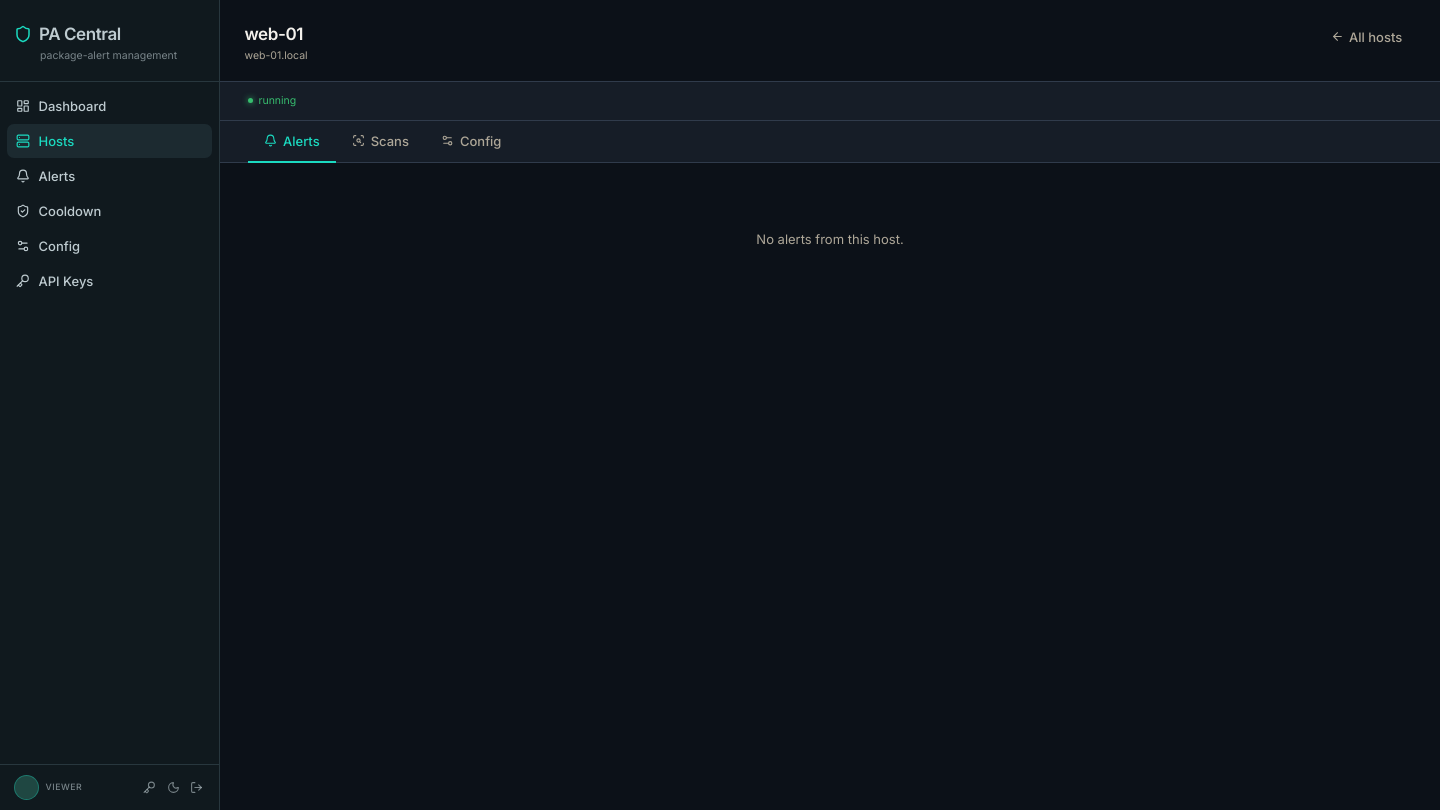
HostDetail scan row — risks › a scan with risks but no findings is expandable and shows the risks table
Step 1. Click the tab "Scans" → (380,142), box [336,121,425,163]
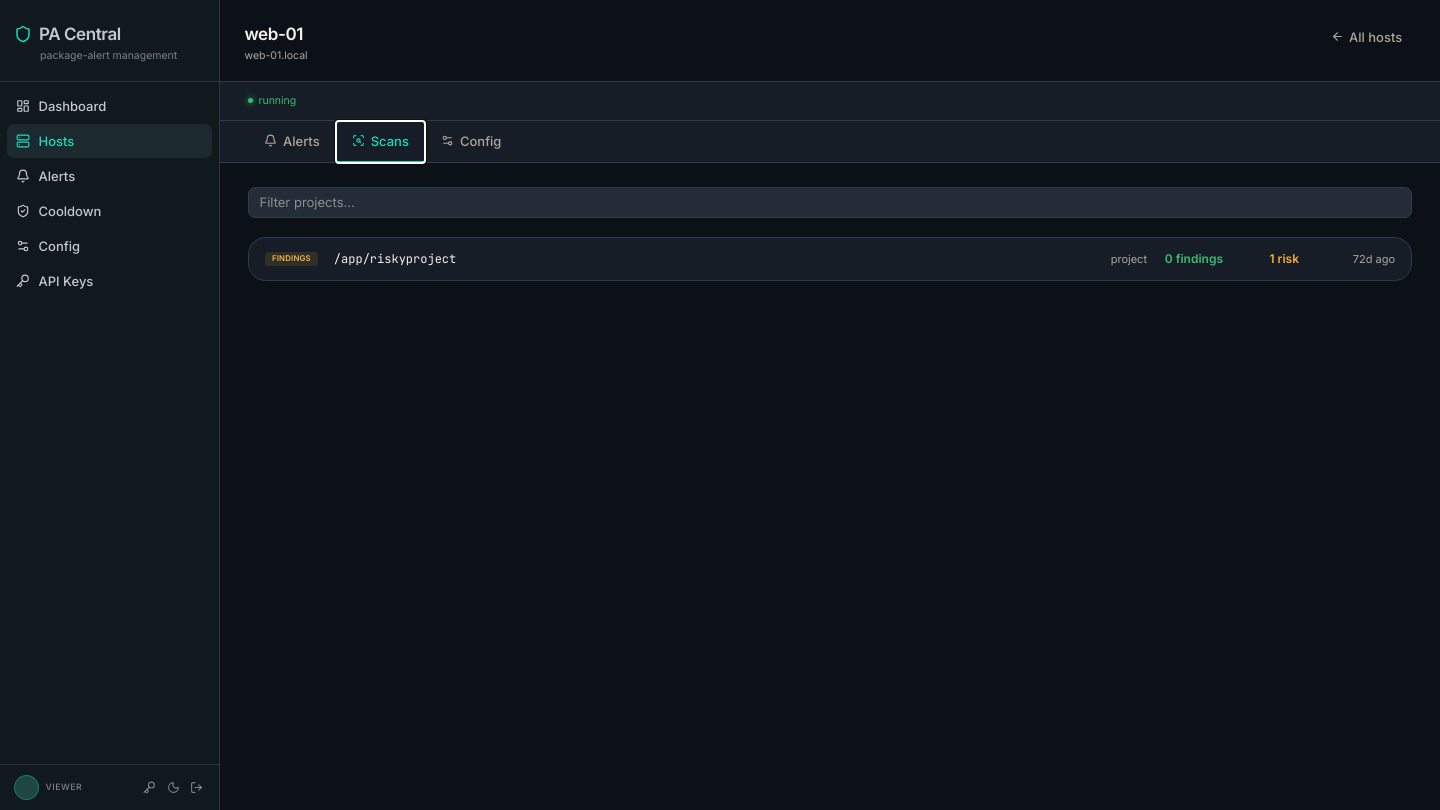
Step 2. Click the button "/app/riskyproject" → (291,259), box [265,251,1395,267]
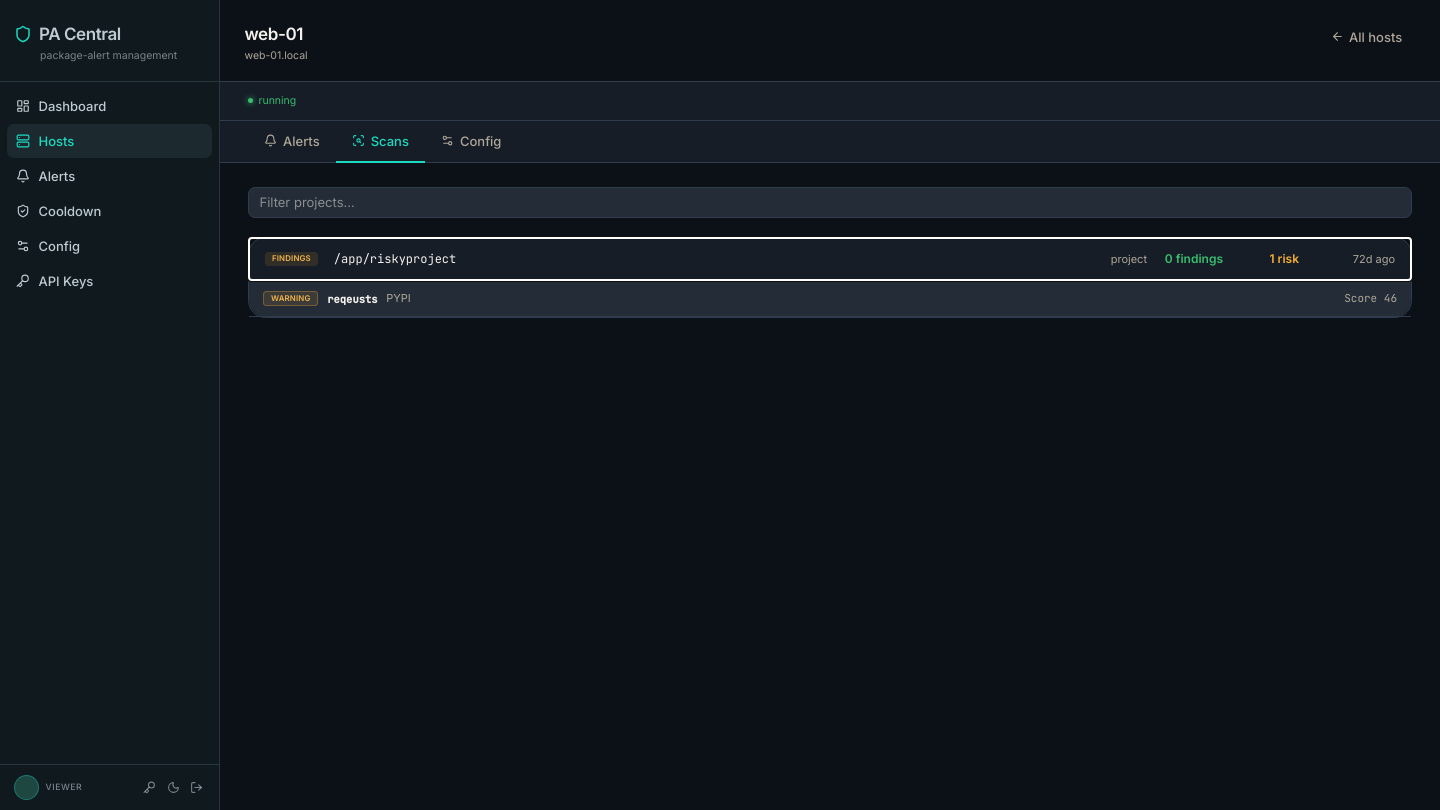
Check: the text "reqeusts" is shown, box [327,292,378,306]
